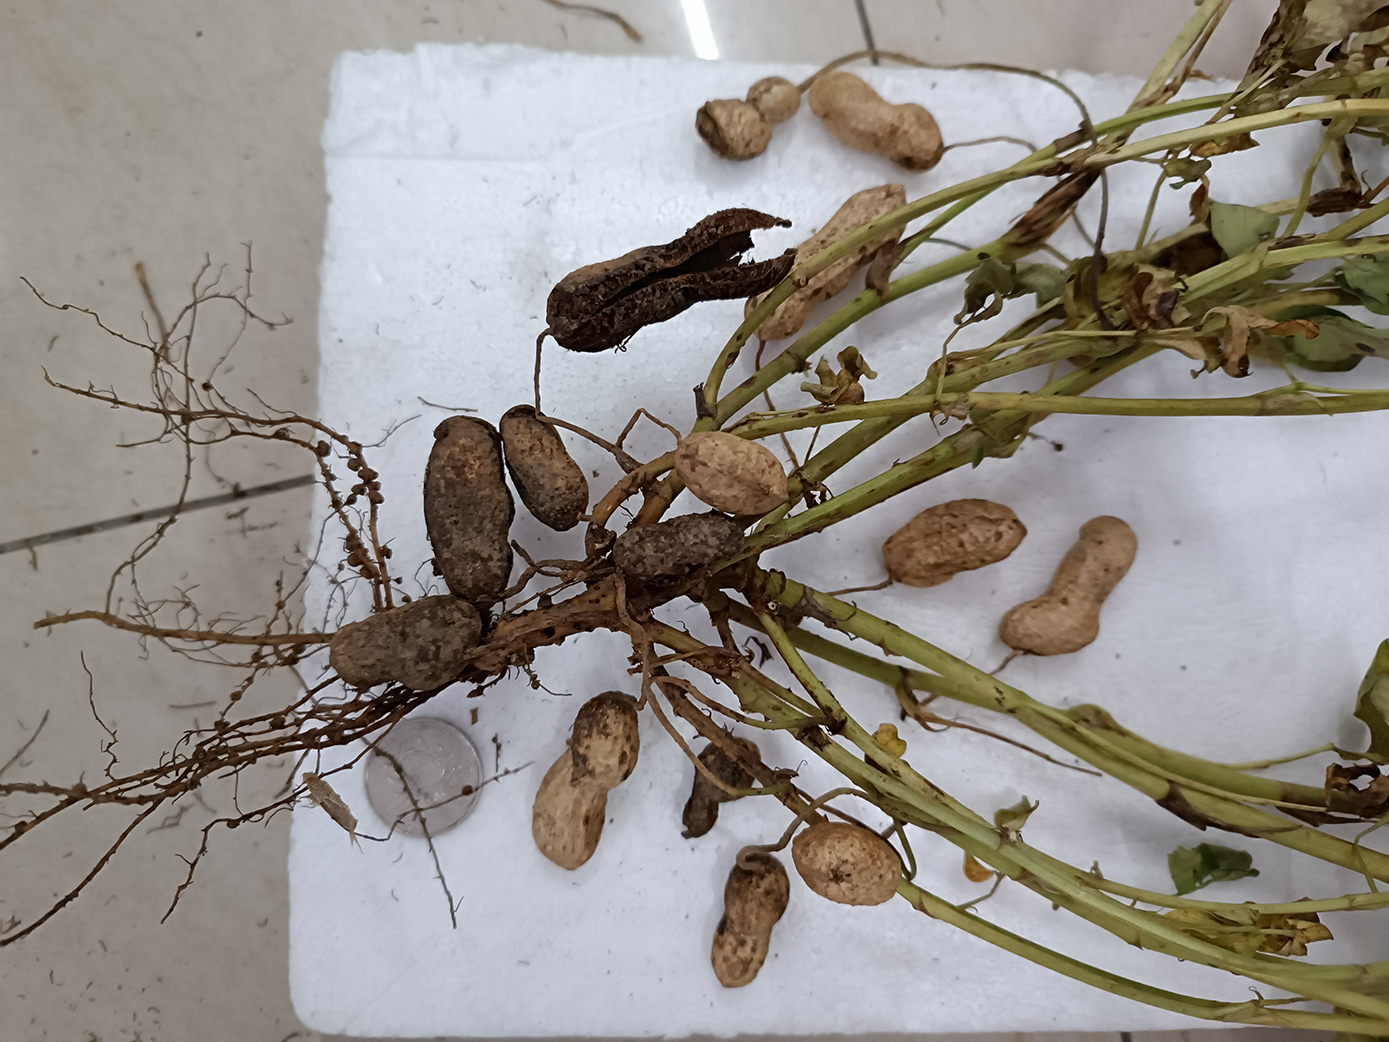h: (746, 183, 906, 338), (1002, 512, 1136, 653), (535, 694, 640, 871), (809, 69, 945, 172), (884, 498, 1028, 587), (676, 432, 790, 516), (792, 826, 906, 908), (691, 76, 798, 159)
l: (540, 206, 800, 354), (420, 412, 517, 598), (331, 602, 488, 684), (499, 402, 593, 529), (711, 850, 789, 987), (615, 508, 746, 579), (681, 744, 762, 840)
